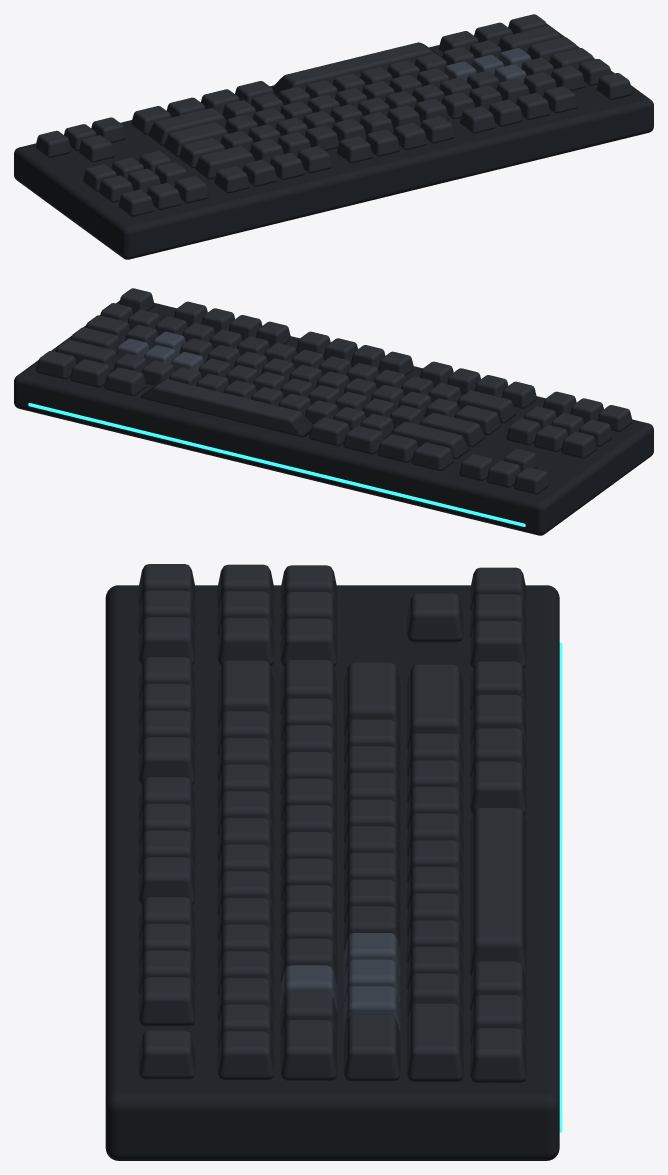
Rendered from keyboard.glb.
3 renders of one model, top to bottom at view 1: azimuth 30°, elevation 25°; view 2: azimuth 150°, elevation 25°; view 3: azimuth 270°, elevation 25°, orthographic. The views are drawn at different scales.
Visible parts, largest first — view 1: keyboard; view 2: keyboard; view 3: keyboard.
Boxes of the visible parts, <box> form: keyboard: <box>14,14,653,259</box>; keyboard: <box>14,288,653,535</box>; keyboard: <box>105,564,562,1160</box>.
Bounding box in the file's own units: 0.3704 × 0.0337 × 0.1379.
